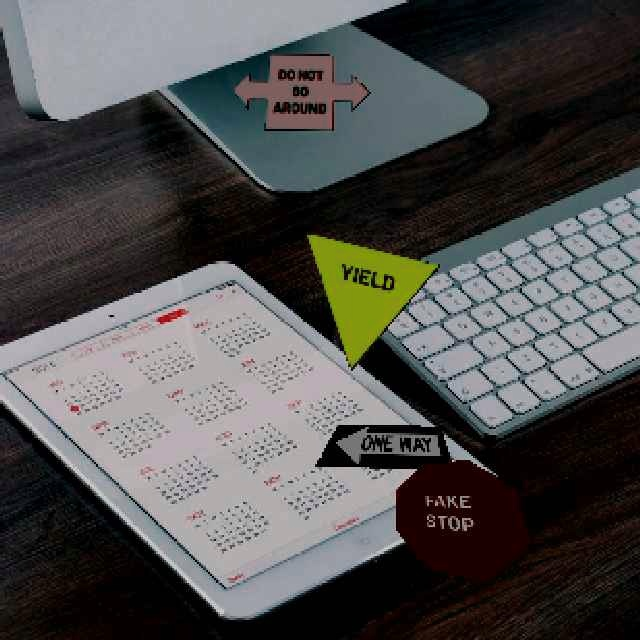DO_NOT_GO_AROUND: (229, 52, 369, 130)
FAKE_STOP: (393, 458, 533, 584)
ONE_WAY_ left: (313, 423, 453, 469)
YIELD: (303, 230, 439, 370)
